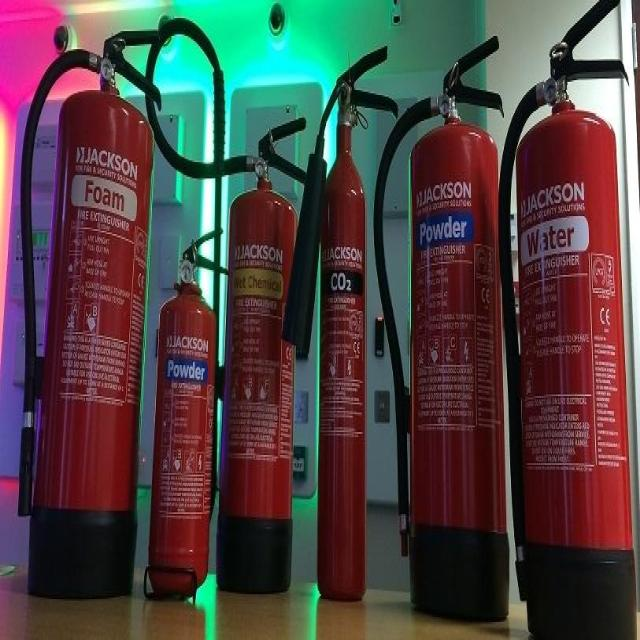fire_extinguisher: (144, 14, 311, 597), (494, 0, 639, 638), (13, 20, 164, 605), (370, 27, 513, 626), (278, 37, 399, 610), (144, 218, 228, 600)
